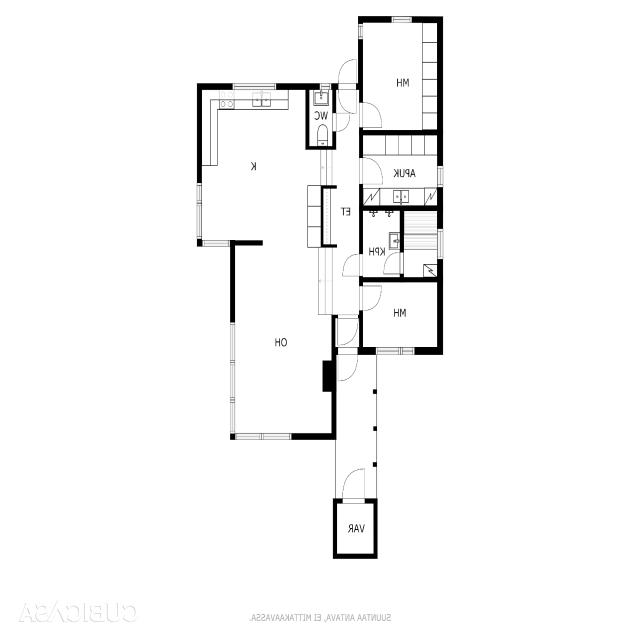door: (340, 465, 369, 506), (332, 314, 362, 350), (336, 54, 359, 100), (358, 156, 387, 189), (358, 98, 386, 131), (335, 349, 360, 384), (358, 282, 384, 313), (339, 250, 364, 281), (336, 76, 358, 111), (382, 250, 404, 278), (329, 110, 352, 136)
window: (226, 320, 238, 439), (230, 430, 298, 444), (230, 78, 278, 94), (194, 180, 206, 243), (373, 343, 419, 358), (389, 12, 416, 26), (436, 226, 446, 263), (435, 164, 446, 191), (318, 80, 333, 94), (356, 22, 366, 40)
zone: (230, 237, 334, 440), (198, 84, 308, 243), (360, 20, 440, 132), (359, 131, 442, 206), (361, 279, 442, 352), (402, 208, 442, 280), (362, 208, 403, 278), (334, 500, 376, 558), (308, 85, 333, 148)
